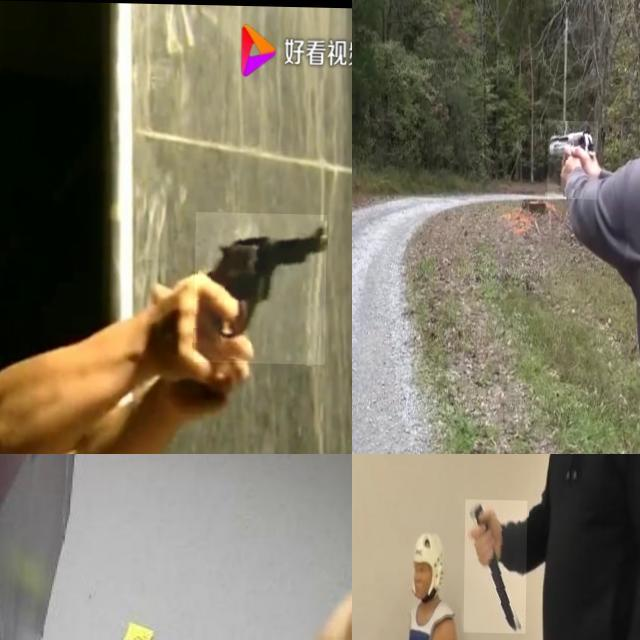-: (464, 498, 528, 632)
gun-knife-thesis - v11 Yolov5 augmented: (195, 210, 327, 362), (548, 119, 599, 198)
